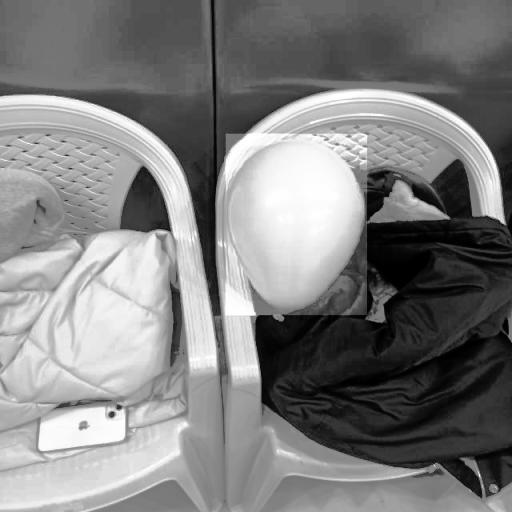balloon: (226, 134, 367, 315)
